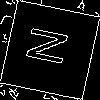N: (25, 24, 78, 69)
